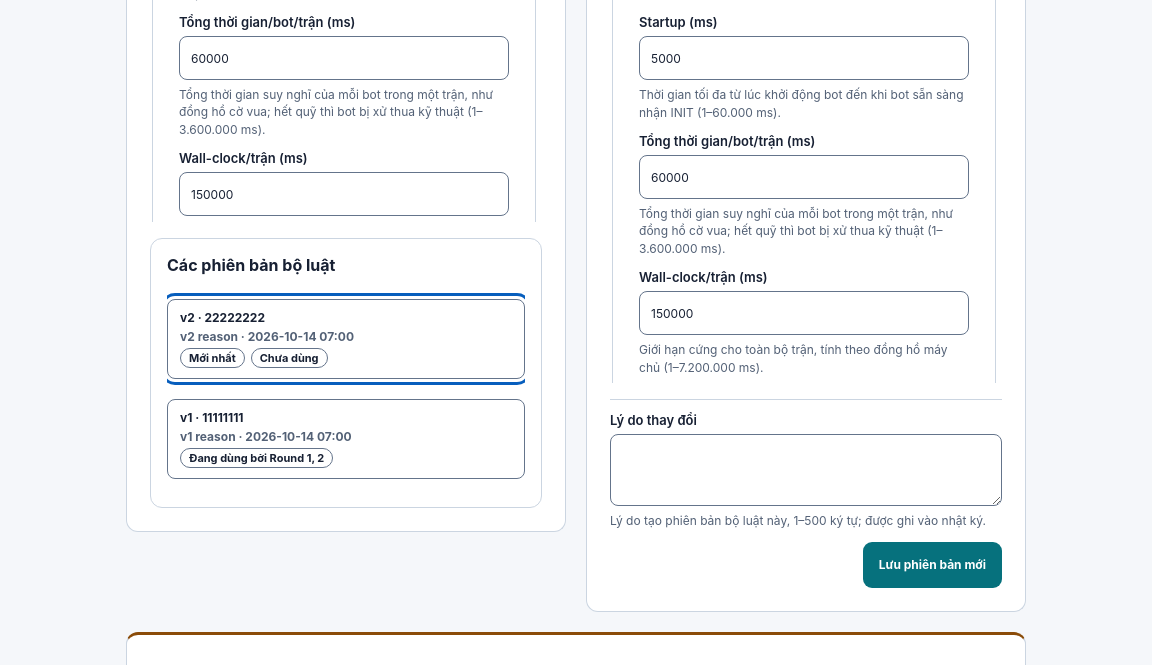
it: RuleSetArchive › loads detail once for the selected id, shows engine and maps read-only, without moving focus
(page scrolled)
Click the button that starts with "v2 reason".
click(346, 339)  # box [167, 299, 525, 379]
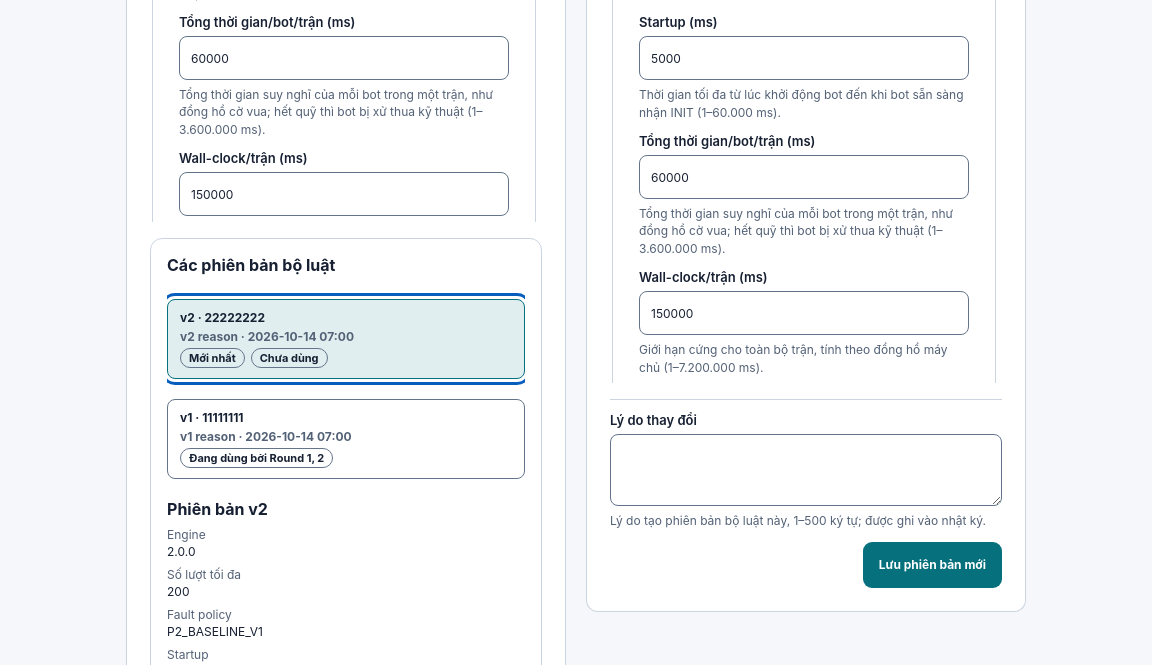
Check: the heading "Phiên bản v2" is shown, box [167, 499, 268, 519]
Check: the element with class "rule-set-detail" shows "2.0.0", box [167, 544, 196, 559]
